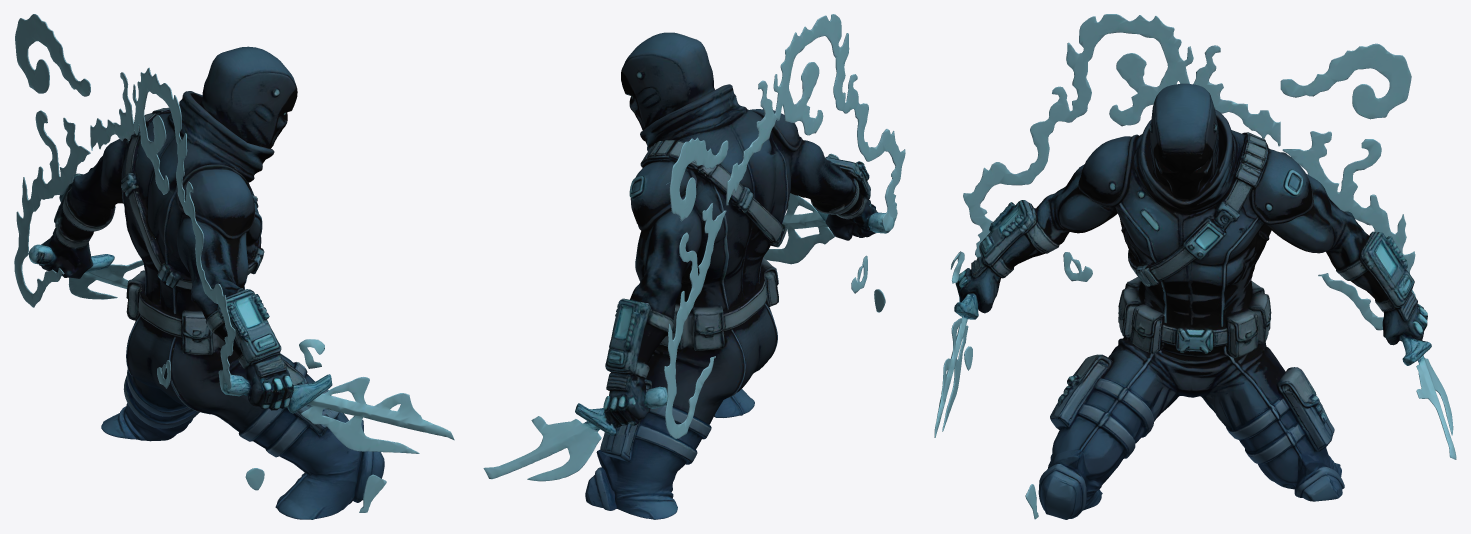
Rendered from nullblade3d.glb.
3 views of the same model, side by side, from view 1: azimuth 30°, elevation 25°; view 2: azimuth 150°, elevation 25°; view 3: azimuth 270°, elevation 25° (orthographic). The views are drawn at different scales.
Parts seen in each view (by area): view 1: tripo_node_581dad97-ff7f-4818-8b67-01b9885ea8ef; view 2: tripo_node_581dad97-ff7f-4818-8b67-01b9885ea8ef; view 3: tripo_node_581dad97-ff7f-4818-8b67-01b9885ea8ef.
Boxes of the visible parts, <box> form: tripo_node_581dad97-ff7f-4818-8b67-01b9885ea8ef: <box>14,14,454,519</box>; tripo_node_581dad97-ff7f-4818-8b67-01b9885ea8ef: <box>483,14,905,519</box>; tripo_node_581dad97-ff7f-4818-8b67-01b9885ea8ef: <box>934,14,1456,519</box>.
Bounding box in the file's own units: 0.4749 × 0.9075 × 1.
Materials: 1 (1 with a texture image).
